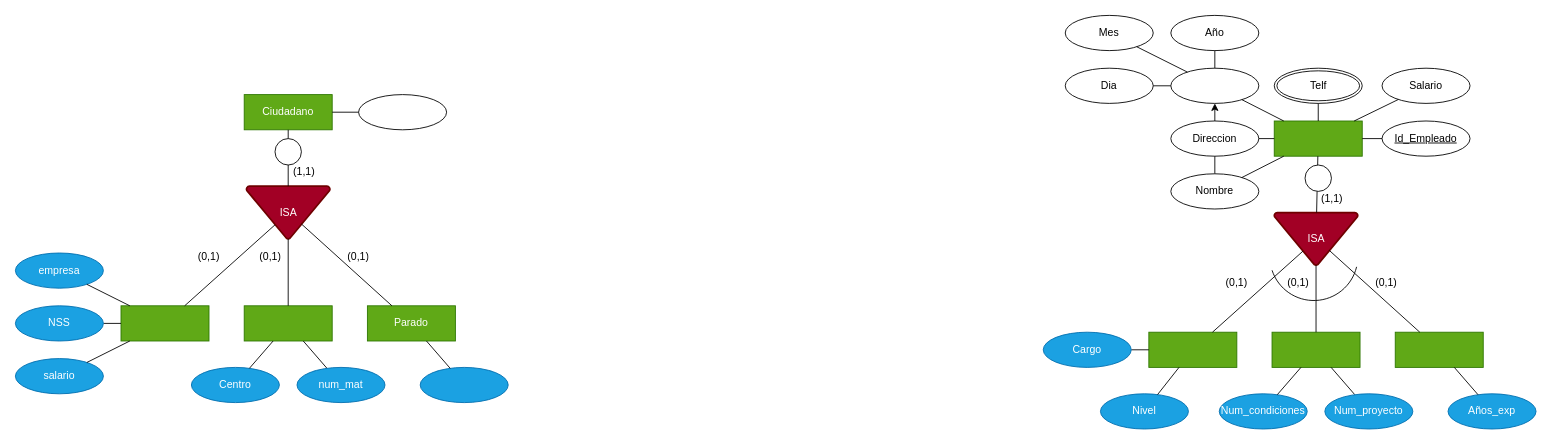
The diagram is 1551 pixels wide and 444 high, and some of its shapes have lost their labels. Here are the shapes that lost their labels. From the top down, the centre of each, then its label:
[1214,85]: fecha_naci
[402,112]: NIF
[1317,138]: Empleado
[164,323]: Trabajador
[287,323]: Estudiante
[1192,349]: Administrativos
[1315,349]: Arquitectos
[1438,349]: Ingenieros
[463,385]: fecha_parado
